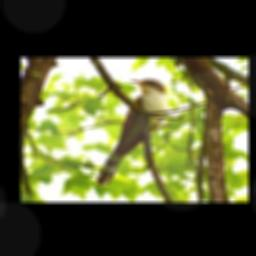Cuckoo: (94, 78, 168, 186)
